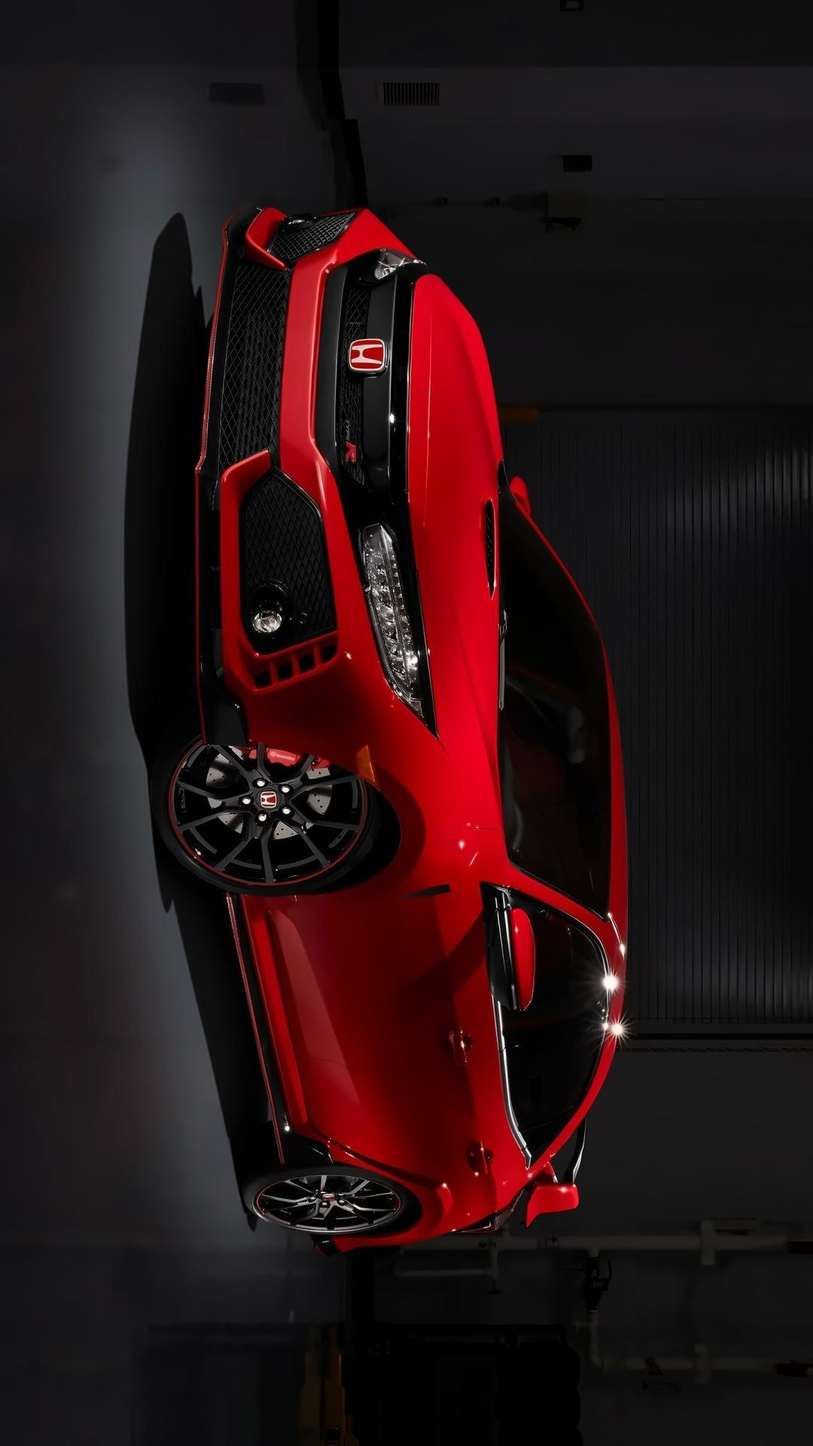Car hood: (404, 263, 506, 827)
Fender - -F-L-: (228, 686, 512, 913)
Fender - -R-L-: (301, 1136, 553, 1228)
Front bumper: (196, 195, 428, 735)
Headlight - -L-: (357, 519, 445, 740)
Passenger-s door - -F-L-: (217, 881, 630, 1056)
Passenger-s door - -R-L-: (252, 1042, 613, 1189)
Side bumper - -L-: (207, 893, 352, 1170)
Side mirror - -L-: (476, 885, 536, 1018)
